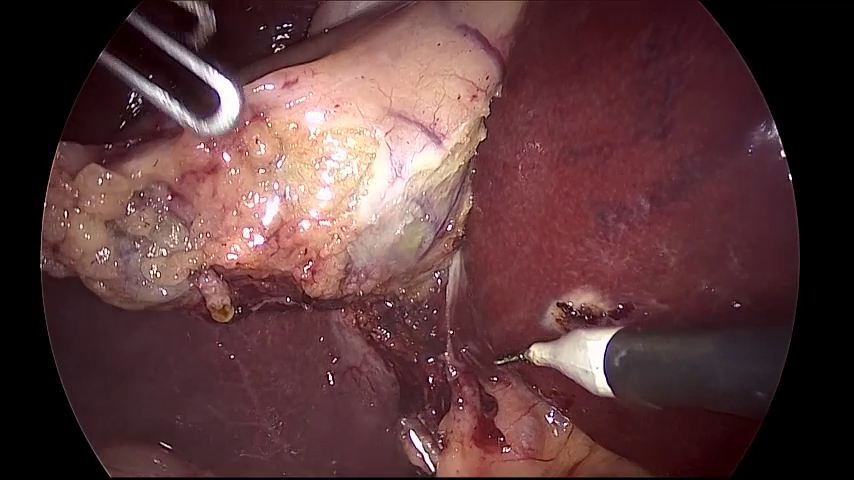grasper: (97, 1, 239, 135)
lhook: (494, 320, 792, 419)
